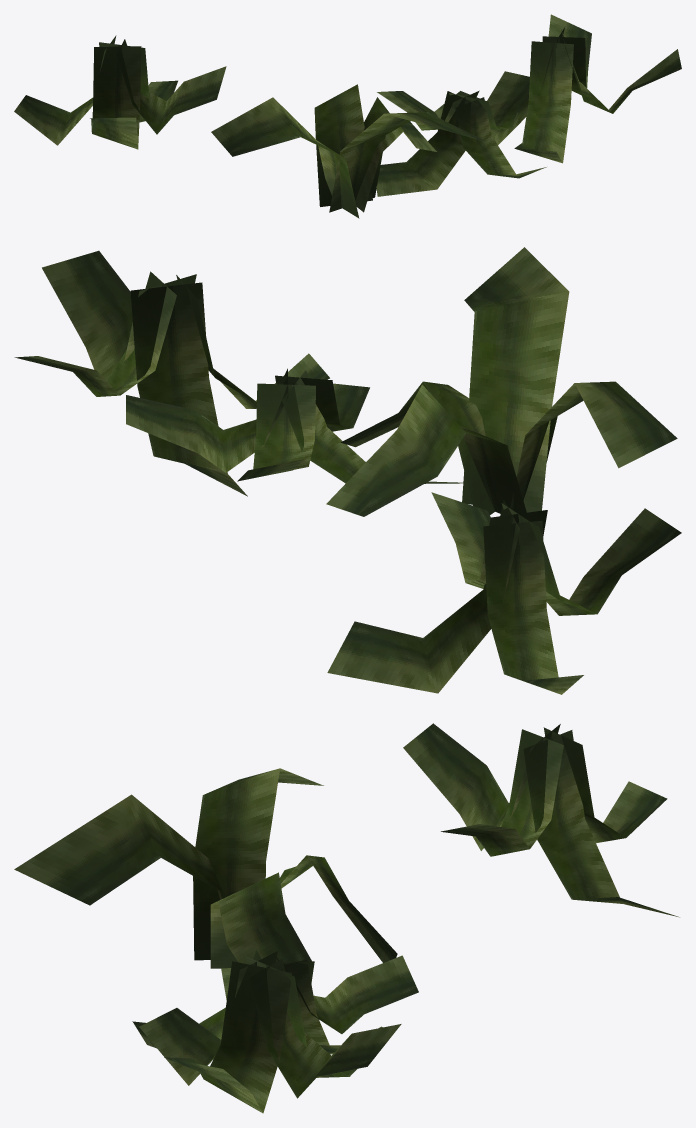
Rendered from Grass06.obj.
3 views of the same model, one above another, from view 1: azimuth 30°, elevation 25°; view 2: azimuth 150°, elevation 25°; view 3: azimuth 270°, elevation 25° (orthographic). The views are drawn at different scales.
Parts seen in each view (by area): view 1: Mesh_0; view 2: Mesh_0; view 3: Mesh_0.
Part boxes in pixels (x1=…): Mesh_0: x1=14, y1=14, x2=681, y2=218; Mesh_0: x1=14, y1=247, x2=681, y2=694; Mesh_0: x1=14, y1=723, x2=679, y2=1113.
Bounding box in the file's own units: 2.64 × 0.6063 × 2.14.
Materials: 1 (1 with a texture image).
